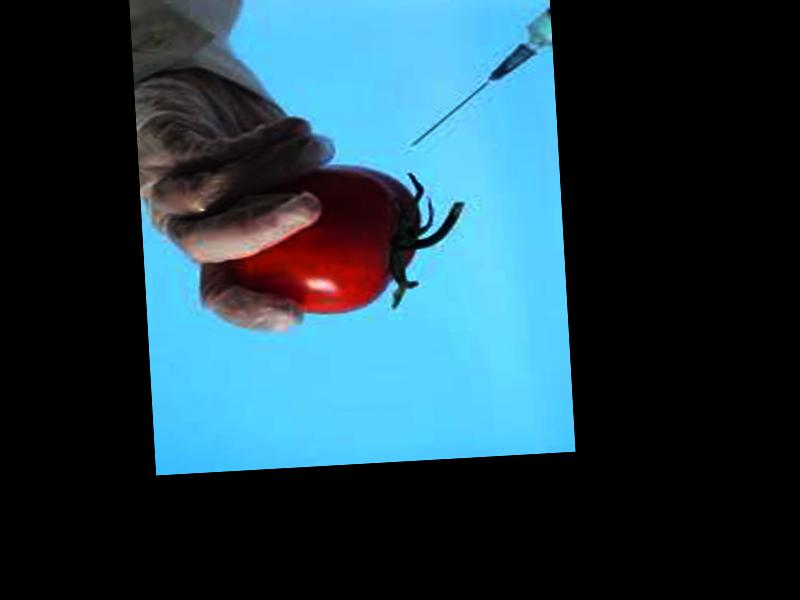Tomato: (223, 163, 424, 320)
